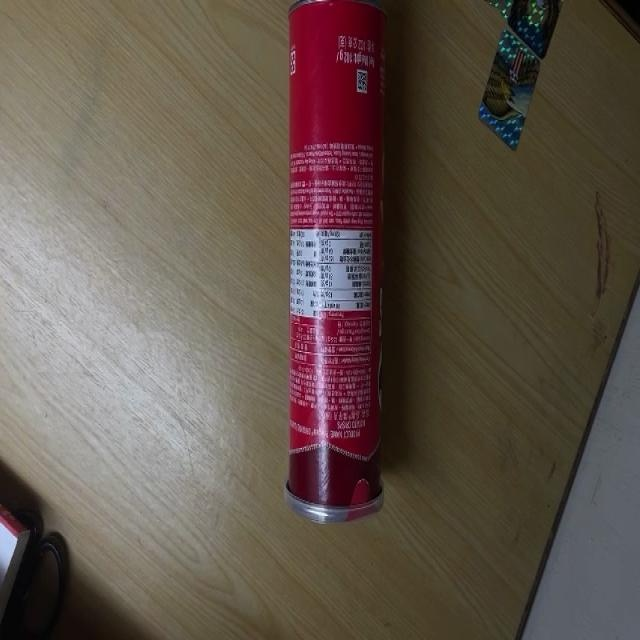Pringles: (285, 0, 388, 529)
